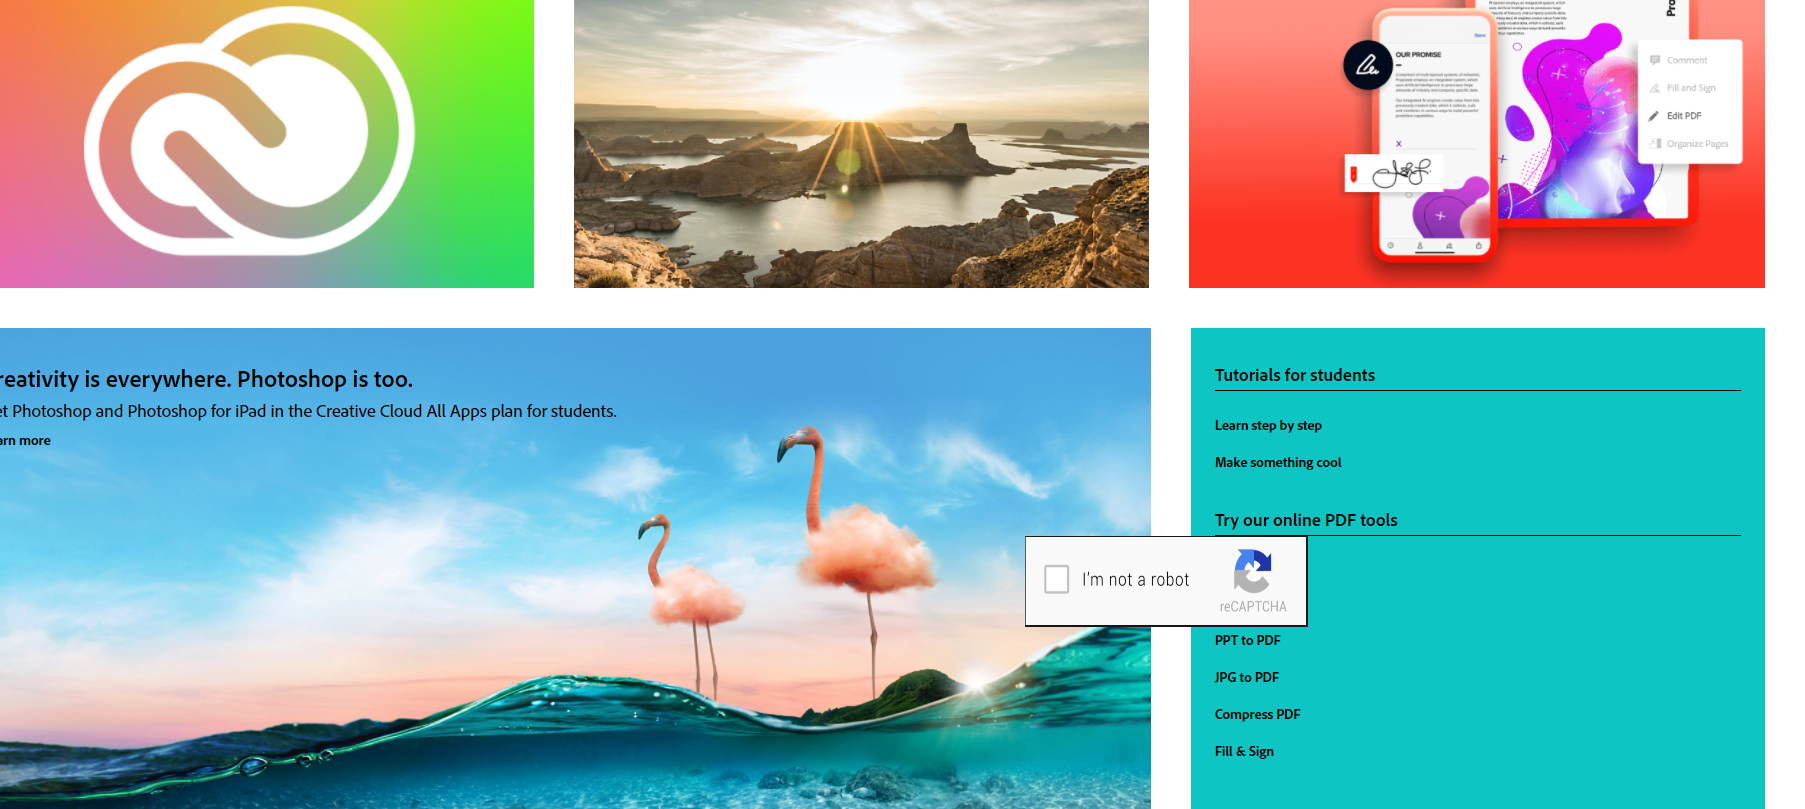captcha: (1026, 536, 1304, 624)
